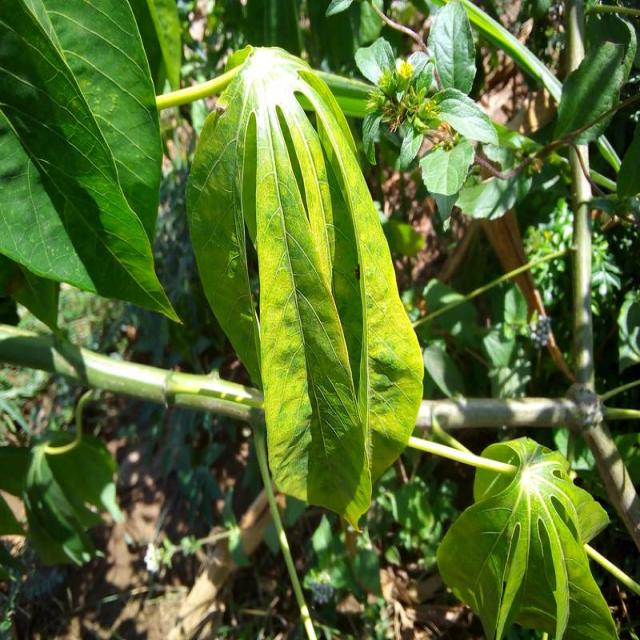cassava leaf: (184, 43, 425, 532), (0, 0, 182, 326), (436, 434, 618, 638)
